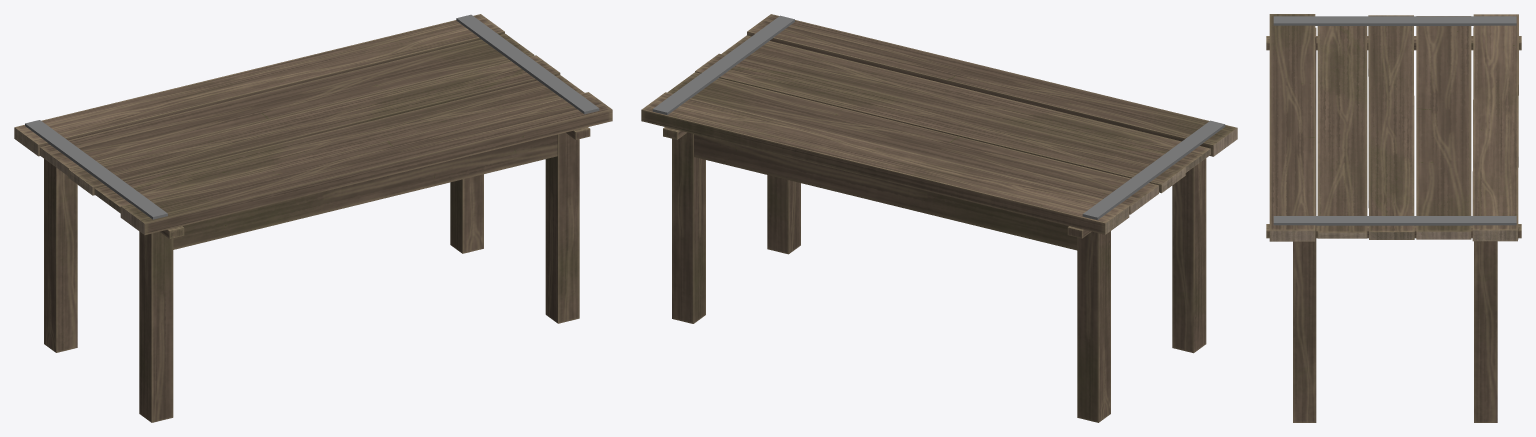
The model's file is SM_table_01.fbx.
The picture shows the model from 3 angles, left to right: view 1: azimuth 30°, elevation 25°; view 2: azimuth 150°, elevation 25°; view 3: azimuth 270°, elevation 25°; orthographic projection. The views are drawn at different scales.
Visible parts, largest first — view 1: Object32490; view 2: Object32490; view 3: Object32490.
Part boxes in pixels (x1=…): Object32490: x1=14, y1=14, x2=612, y2=422; Object32490: x1=641, y1=14, x2=1237, y2=422; Object32490: x1=1266, y1=14, x2=1521, y2=422.
Bounding box in the file's own units: 82.61 × 36.35 × 41.1.
